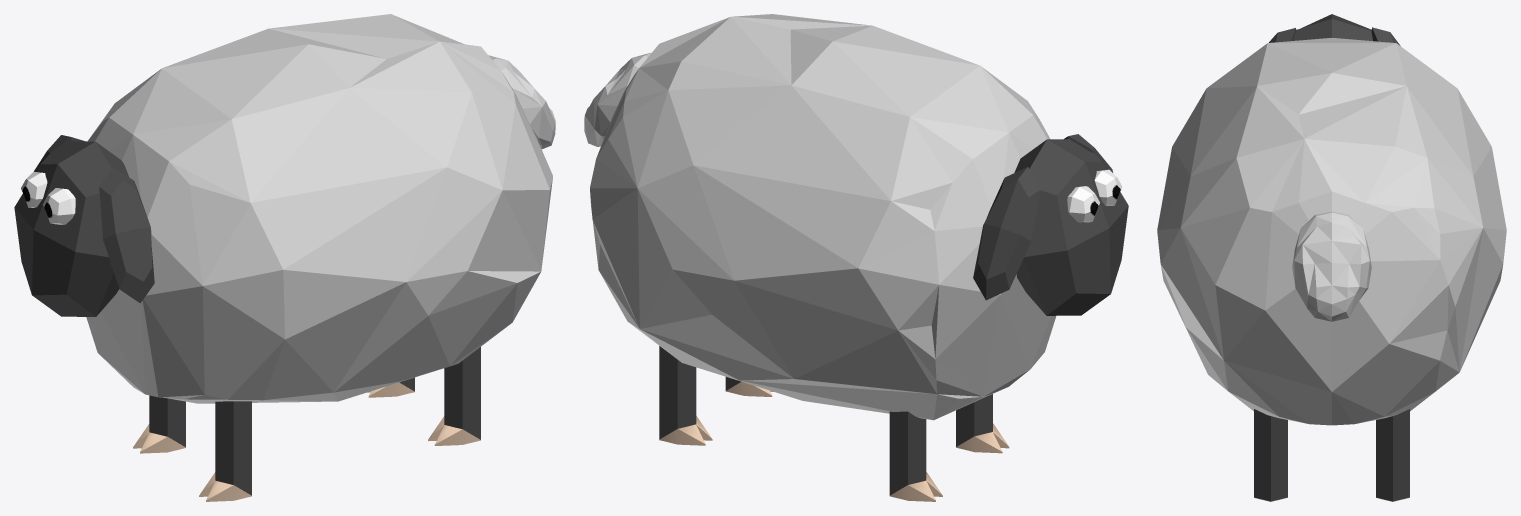
The model's file is Low Poly Sheep.fbx.
The picture shows the model from 3 angles, left to right: view 1: azimuth 30°, elevation 25°; view 2: azimuth 150°, elevation 25°; view 3: azimuth 270°, elevation 25°; orthographic projection. The views are drawn at different scales.
Visible parts, largest first — view 1: pCylinder12; view 2: pCylinder12; view 3: pCylinder12.
Part boxes in pixels (x1,y1,x2,y2): pCylinder12: (14, 14, 555, 501); pCylinder12: (584, 14, 1128, 501); pCylinder12: (1157, 14, 1506, 501).
Bounding box in the file's own units: 1.36 × 0.9949 × 0.8605.
Materials: 4 (1 with a texture image).
